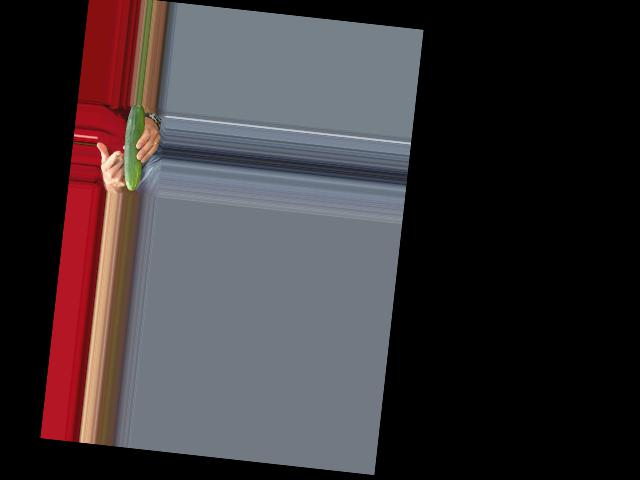cucumber: (119, 103, 149, 191)
